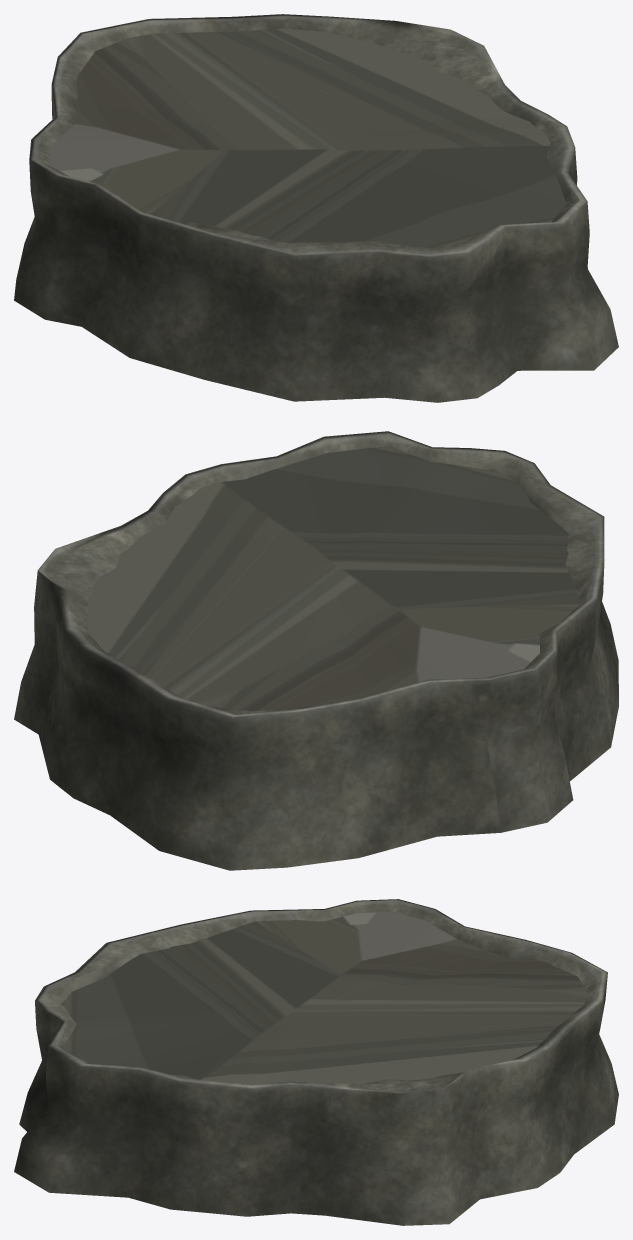
The model's file is MD_mizuba_top_01.fbx.
The picture shows the model from 3 angles, top to bottom: view 1: azimuth 30°, elevation 25°; view 2: azimuth 150°, elevation 25°; view 3: azimuth 270°, elevation 25°; orthographic projection. The views are drawn at different scales.
Parts seen in each view (by area): view 1: mizuba_top, mizba_water01; view 2: mizuba_top, mizba_water01; view 3: mizuba_top, mizba_water01.
Part boxes in pixels (bbox=[...]): mizuba_top: bbox=[14, 14, 618, 402]; mizba_water01: bbox=[49, 29, 566, 246]; mizuba_top: bbox=[14, 431, 618, 870]; mizba_water01: bbox=[87, 446, 580, 711]; mizuba_top: bbox=[14, 899, 618, 1225]; mizba_water01: bbox=[61, 911, 587, 1084].
Bounding box in the file's own units: 6915 × 2043 × 8470.
